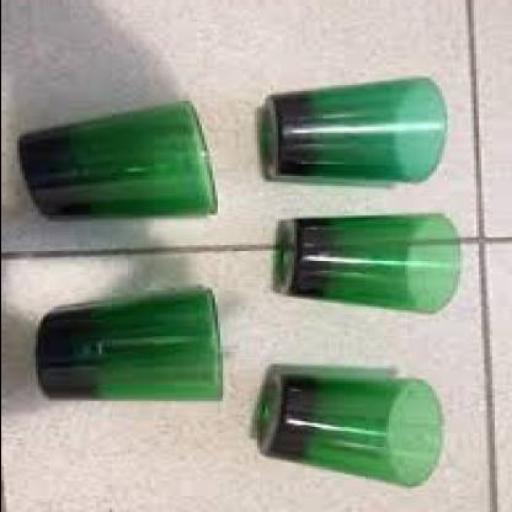glass: (18, 103, 222, 221), (37, 290, 224, 404), (259, 376, 446, 488), (278, 216, 464, 316), (269, 79, 446, 184)
